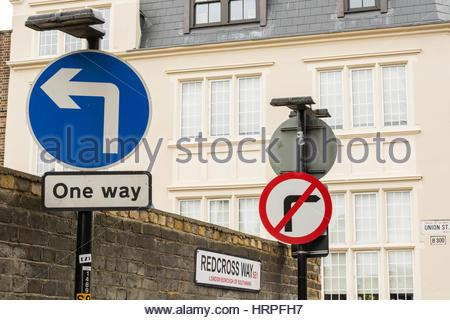no_right_turn: (258, 171, 332, 242)
